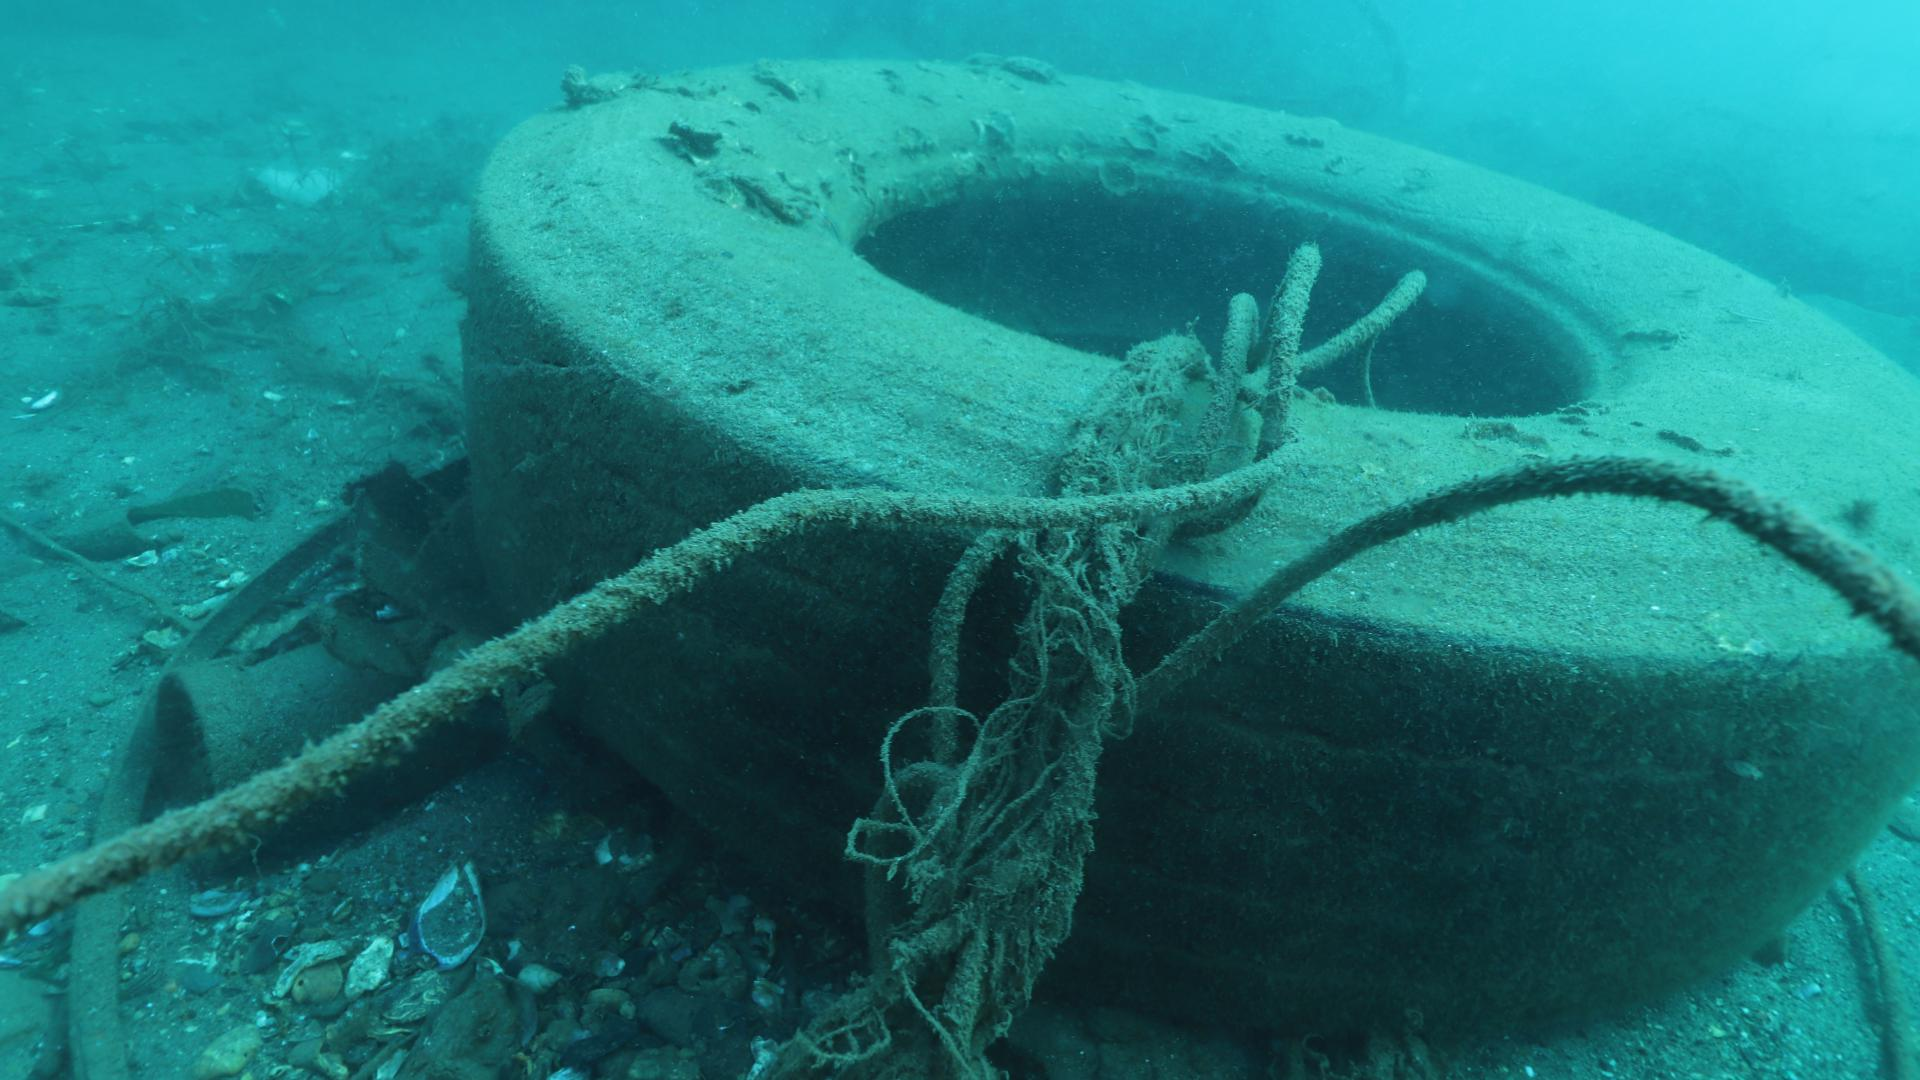bundle of ropes: (0, 237, 1916, 1080)
tire: (462, 54, 1920, 1058)
